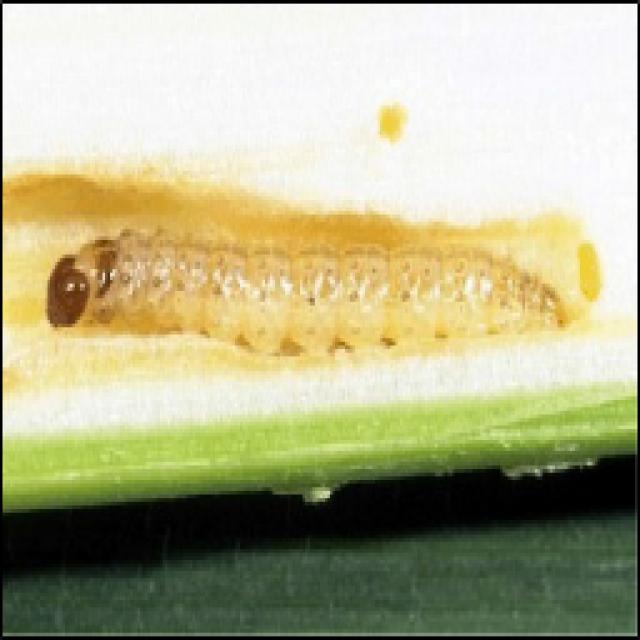cornborer-Larva-: (44, 211, 599, 392)
